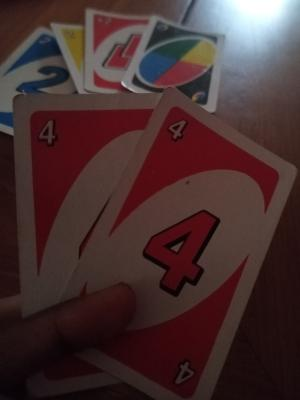-2: (77, 12, 152, 94)
colour: (126, 15, 234, 113)
num_2: (14, 59, 73, 102)
num_4: (31, 109, 65, 151)
